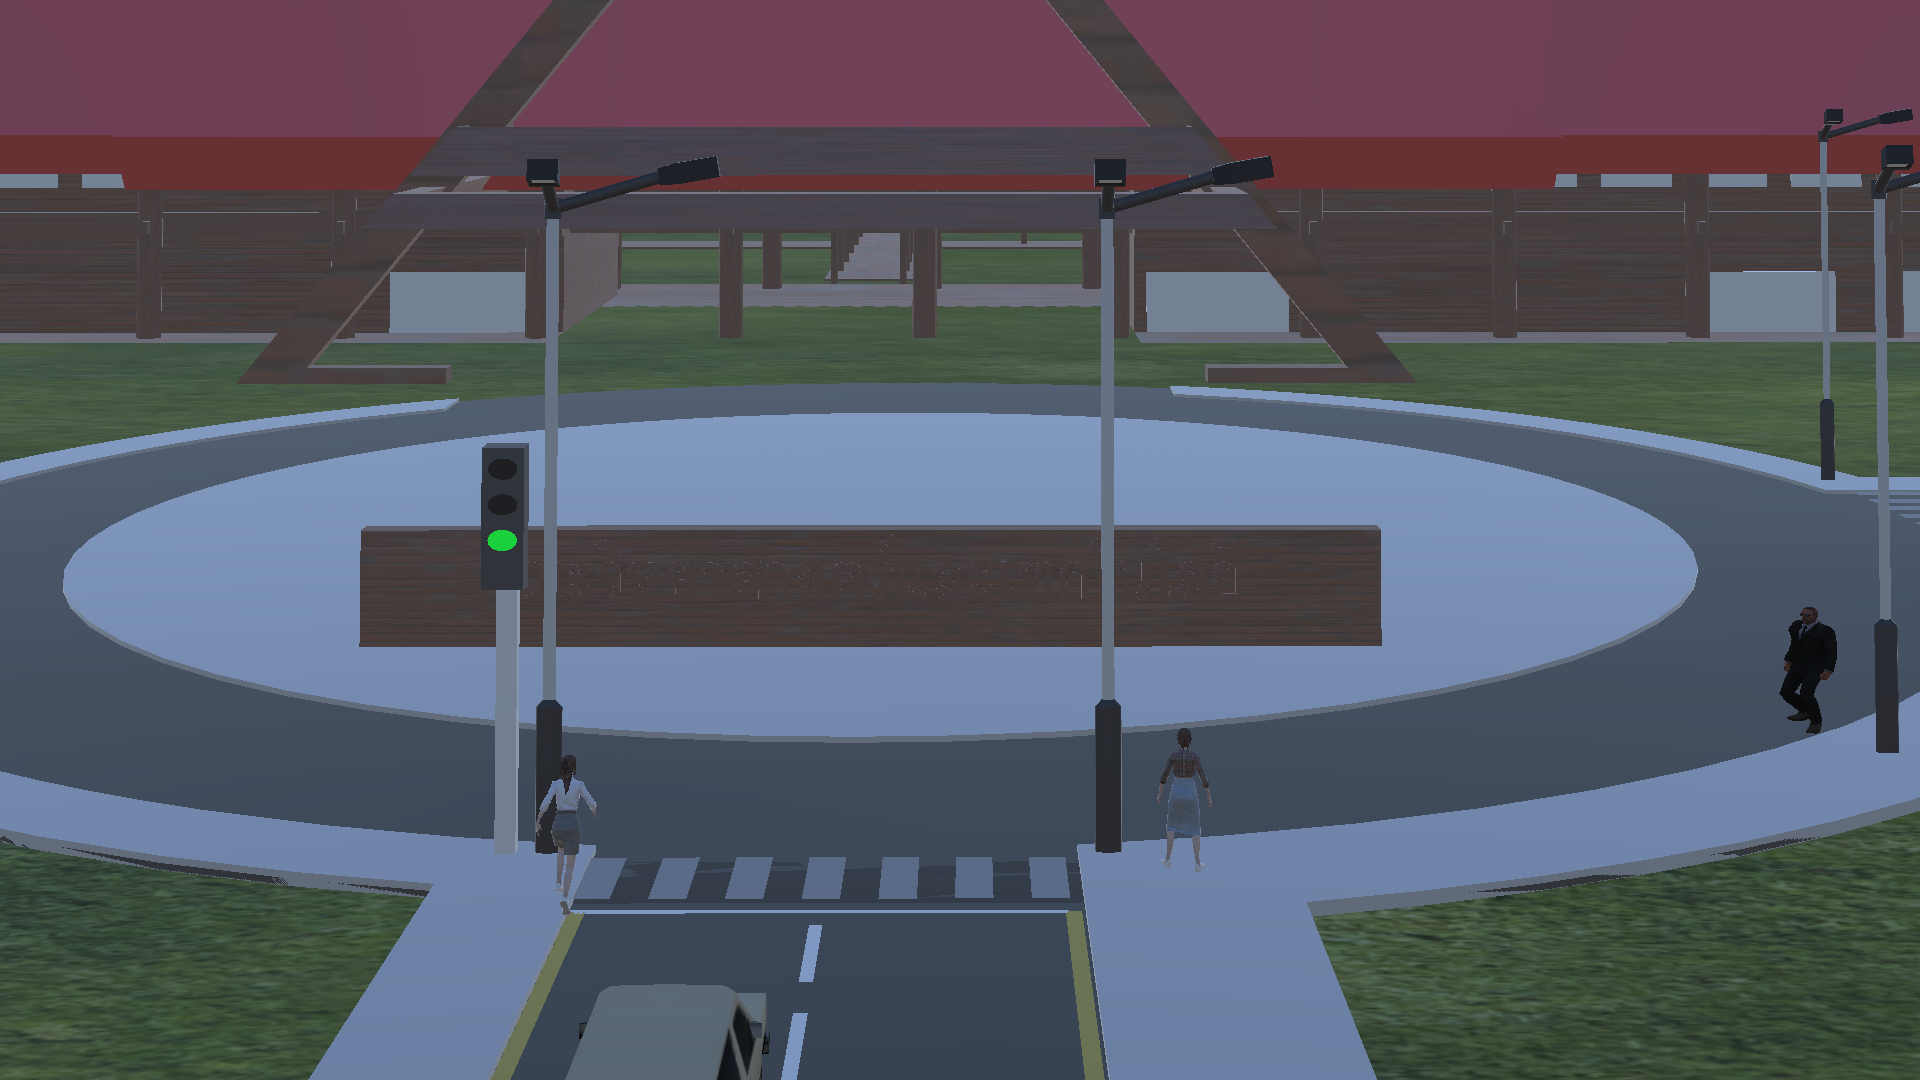pedestrian: (530, 754, 600, 917), (1149, 720, 1220, 874), (1774, 605, 1843, 737)
